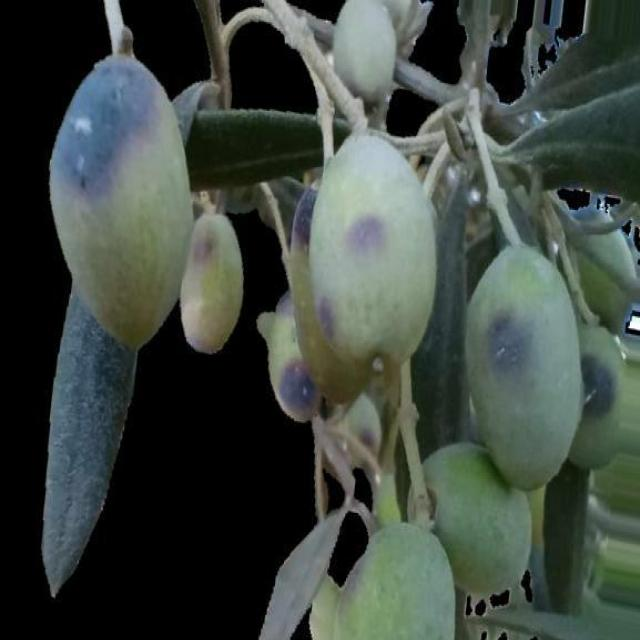Olive Fruit Fly: (50, 55, 192, 353), (311, 130, 435, 364), (466, 245, 582, 491), (180, 210, 243, 352)
